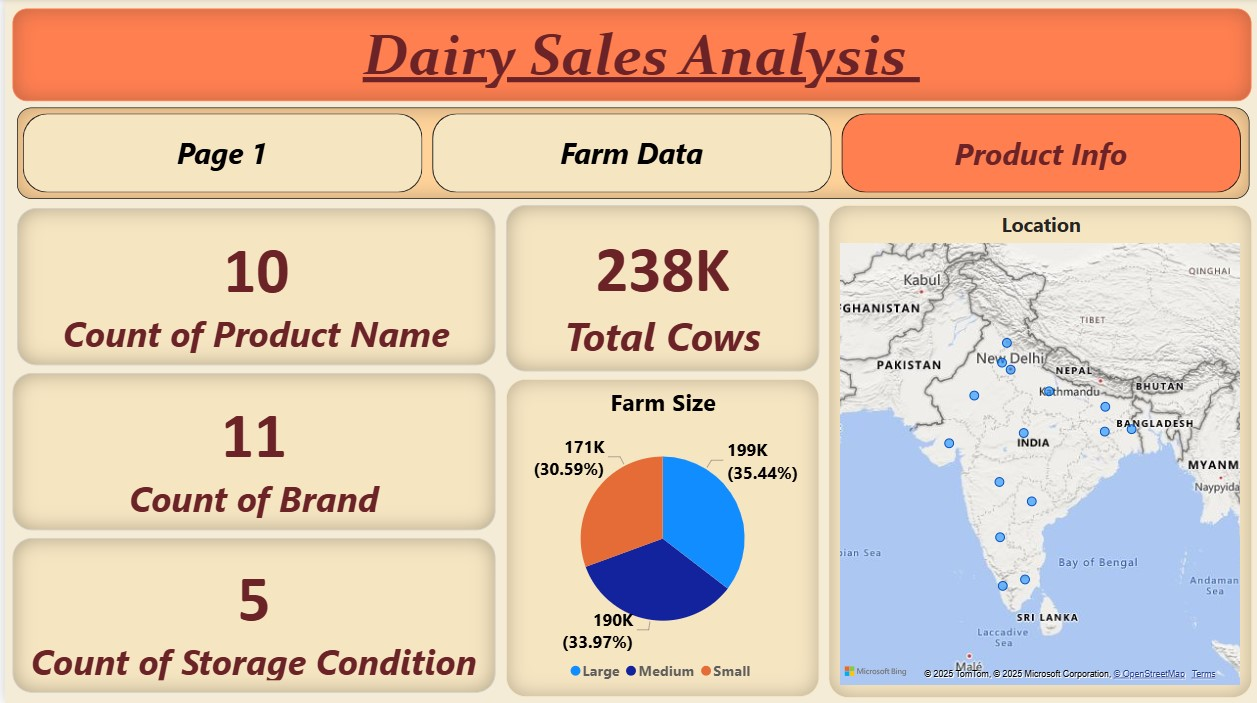

The dashboard page shown, as its layout file describes it:
{"tool":"powerbi","page":{"name":"Product Info","canvas":[1280,720],"ordinal":2},"visuals":[{"type":"textbox","box":[7.7,10.7,1265.4,95],"z":0},{"type":"pieChart","title":"Farm Size","fields":{"Y":["Sum(dairy_dataset.Quantity Sold (liters/kg))"],"Category":["dairy_dataset.Farm Size"]},"box":[512,388.7,320,324.7],"z":1000},{"type":"map","fields":{"Category":["dairy_dataset.Location"]},"box":[840.6,210.9,432.8,503.1],"z":2000},{"type":"pageNavigator","box":[11.7,111.7,1258.3,93.3],"z":3000},{"type":"card","fields":{"Values":["Sum(dairy_dataset.Number of Cows)"]},"box":[511.7,211.7,320,170],"z":4000},{"type":"card","fields":{"Values":["Count(dairy_dataset.Product Name)"]},"box":[12.3,214.5,488.7,160.9],"z":5000},{"type":"card","fields":{"Values":["Count(dairy_dataset.Brand)"]},"box":[7.7,383,493.3,160.9],"z":6000},{"type":"card","fields":{"Values":["Count(dairy_dataset.Storage Condition)"]},"box":[7.7,551.5,493.3,157.8],"z":7000}]}

Visuals, with their boxes in screenshot pixels (x1, y1, x2, y2), scaled from the page's 1280x720 canvas onto the 1257x703 screenshot:
textbox: locate(8, 10, 1250, 103)
"Farm Size" pieChart: locate(503, 380, 817, 697)
map - dairy_dataset.Location: locate(825, 206, 1251, 697)
pageNavigator: locate(11, 109, 1247, 200)
card - Sum(dairy_dataset.Number of Cows): locate(503, 207, 817, 373)
card - Count(dairy_dataset.Product Name): locate(12, 209, 492, 367)
card - Count(dairy_dataset.Brand): locate(8, 374, 492, 531)
card - Count(dairy_dataset.Storage Condition): locate(8, 538, 492, 693)
